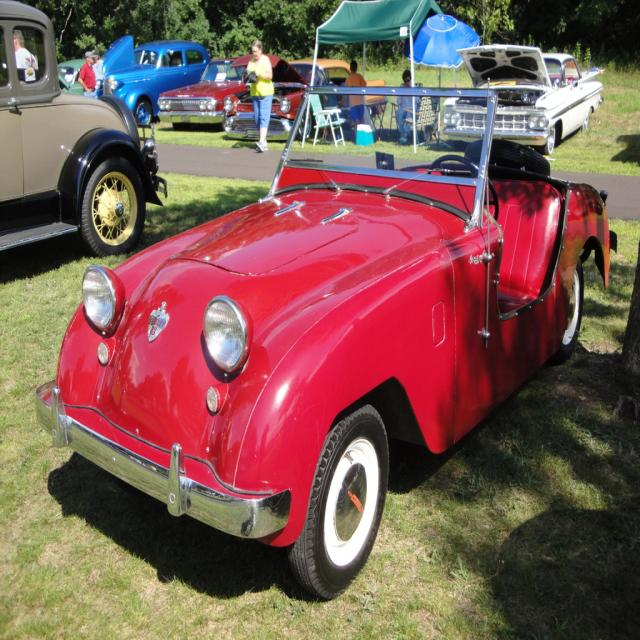car: (33, 77, 617, 601)
